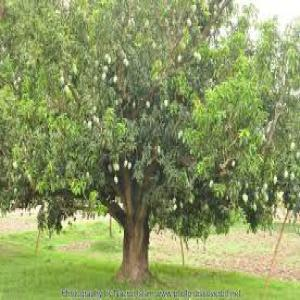Tree: (3, 2, 296, 276)
